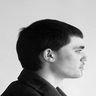ear: (39, 45, 60, 68)
